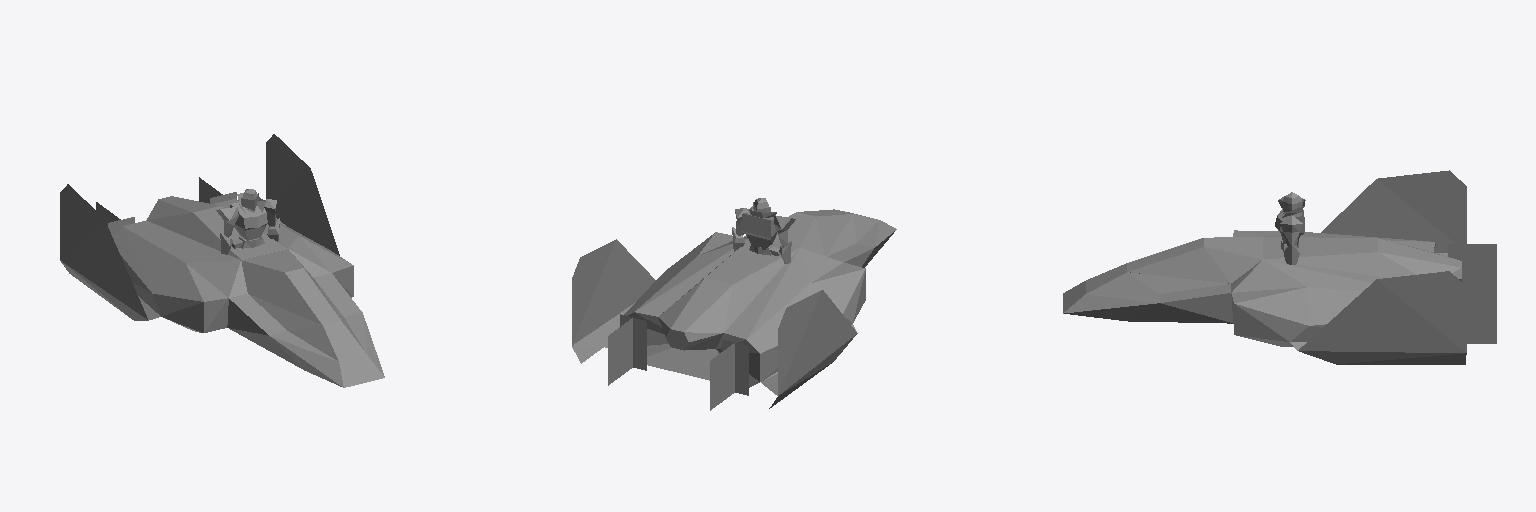
3 renders of one model, left to right at view 1: azimuth 30°, elevation 25°; view 2: azimuth 150°, elevation 25°; view 3: azimuth 270°, elevation 25°, orthographic.
Visible parts, largest first — view 1: bf_0_0_067, bf_69E8D82D_0_048, bf_[number redacted]D_0_066, bf_0_0_066, bf_56723A20_0_052, bf_421883E8_0_050, bf_11A65E38_0_051, body_323B1AD6_0_067, bf_28C00B5C_0_049; view 2: bf_0_0_067, bf_56723A20_0_052, bf_69E8D82D_0_048, bf_[number redacted]D_0_066, bf_11A65E38_0_051, bf_421883E8_0_050, bf_2B7F203A_0_054, bf_2C81A79D_0_045, bf_0_0_066, body_[number redacted]_0_066, bf_2FFC9682_0_061, bf_2FFC9682_0_063 (+2 smaller); view 3: bf_0_0_067, bf_56723A20_0_052, bf_69E8D82D_0_048, bf_[number redacted]D_0_066, bf_0_0_066, bf_421883E8_0_050, bf_11A65E38_0_051, bf_28C00B5C_0_049, bf_2FFC9682_0_063, bf_2FFC9682_0_065, bf_2FFC9682_0_061, bf_2FFC9682_0_059.
Boxes of the visible parts, x1=… form: bf_0_0_067: x1=60, y1=169, x2=384, y2=387; bf_69E8D82D_0_048: x1=153, y1=236, x2=353, y2=332; bf_[number redacted]D_0_066: x1=241, y1=249, x2=340, y2=325; bf_0_0_066: x1=204, y1=266, x2=366, y2=361; bf_56723A20_0_052: x1=60, y1=134, x2=310, y2=258; bf_421883E8_0_050: x1=63, y1=171, x2=384, y2=387; bf_11A65E38_0_051: x1=112, y1=223, x2=324, y2=293; body_323B1AD6_0_067: x1=230, y1=202, x2=267, y2=240; bf_28C00B5C_0_049: x1=227, y1=299, x2=268, y2=335; bf_0_0_067: x1=572, y1=220, x2=896, y2=408; bf_56723A20_0_052: x1=572, y1=240, x2=821, y2=394; bf_69E8D82D_0_048: x1=666, y1=232, x2=865, y2=323; bf_[number redacted]D_0_066: x1=774, y1=209, x2=852, y2=255; bf_11A65E38_0_051: x1=624, y1=257, x2=817, y2=353; bf_421883E8_0_050: x1=572, y1=239, x2=856, y2=393; bf_2B7F203A_0_054: x1=647, y1=348, x2=718, y2=380; bf_2C81A79D_0_045: x1=628, y1=312, x2=759, y2=387; bf_0_0_066: x1=666, y1=210, x2=878, y2=349; body_[number redacted]_0_066: x1=740, y1=214, x2=771, y2=249; bf_2FFC9682_0_061: x1=608, y1=340, x2=632, y2=385; bf_2FFC9682_0_063: x1=710, y1=343, x2=734, y2=388; bf_0_0_067: x1=1063, y1=179, x2=1466, y2=364; bf_56723A20_0_052: x1=1377, y1=170, x2=1466, y2=352; bf_69E8D82D_0_048: x1=1231, y1=230, x2=1308, y2=346; bf_[number redacted]D_0_066: x1=1127, y1=237, x2=1262, y2=283; bf_0_0_066: x1=1086, y1=263, x2=1233, y2=323; bf_421883E8_0_050: x1=1063, y1=181, x2=1461, y2=352; bf_11A65E38_0_051: x1=1308, y1=287, x2=1362, y2=325; bf_28C00B5C_0_049: x1=1161, y1=293, x2=1232, y2=322; bf_2FFC9682_0_063: x1=1448, y1=244, x2=1496, y2=271; bf_2FFC9682_0_065: x1=1462, y1=266, x2=1496, y2=293; bf_2FFC9682_0_061: x1=1467, y1=316, x2=1496, y2=343; bf_2FFC9682_0_059: x1=1467, y1=294, x2=1496, y2=315.
Size of the model in its own units: 1.15 by 0.6703 by 2.1.